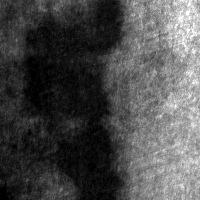patches: (29, 1, 122, 119), (114, 101, 200, 200), (57, 127, 122, 200)
